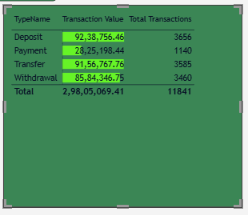

The page's visual inventory and layout, read from the dashboard file:
{"tool":"powerbi","page":{"name":"Transaction Tooltip","canvas":[400,300],"ordinal":1},"visuals":[{"type":"cardVisual","fields":{"Data":["Min(Transaction Types.TypeName)"]},"box":[0,0,190,123],"z":0},{"type":"cardVisual","fields":{"Data":["Transactions.Total Transaction Value"]},"box":[57,132,302.2,144.8],"z":1000},{"type":"cardVisual","fields":{"Data":["Transactions.Total Transactions"]},"box":[190,0,210,123],"z":2000}]}

Visuals, with their boxes on the page's 400x300 design canvas (x1, y1, x2, y2). These are canvas units, not pixel positions in the 248x215 screenshot, which may show the page scaled, cropped or inside an application window:
cardVisual - Min(Transaction Types.TypeName): 0,0,190,123
cardVisual - Transactions.Total Transaction Value: 57,132,359,277
cardVisual - Transactions.Total Transactions: 190,0,400,123
